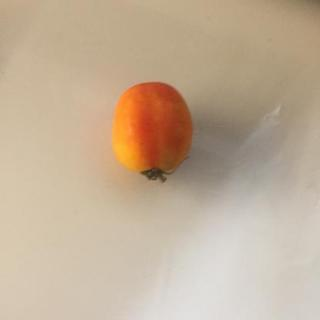Tomat: (105, 79, 199, 185)
